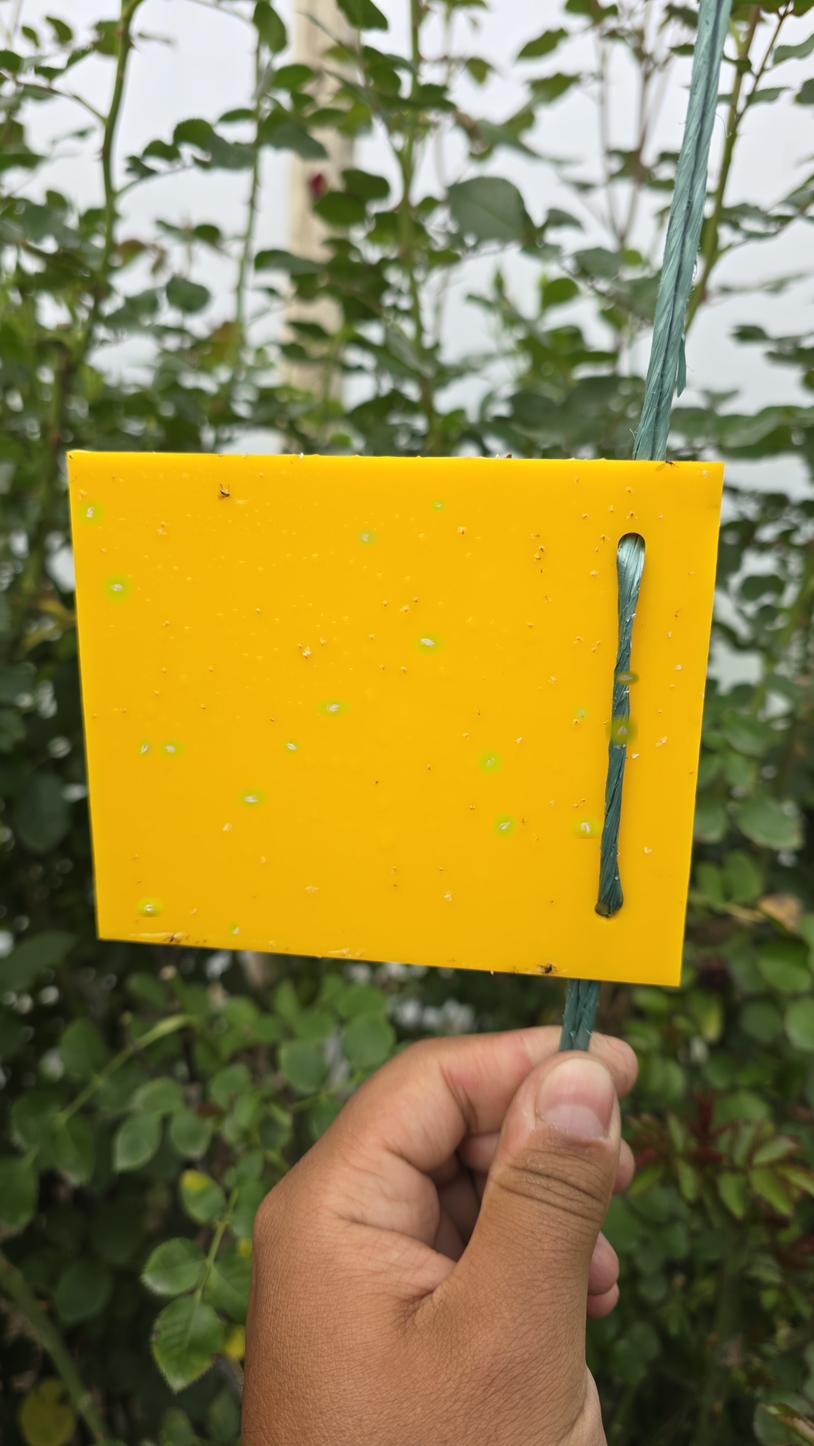WF: (106, 576, 129, 598), (610, 719, 633, 741), (79, 503, 102, 522), (416, 634, 440, 652), (574, 819, 598, 835), (319, 701, 346, 714), (240, 790, 263, 805), (480, 753, 499, 771), (495, 816, 513, 835), (161, 741, 182, 756), (140, 900, 160, 914), (359, 531, 374, 544), (138, 740, 151, 755), (284, 740, 298, 753), (619, 673, 636, 683), (222, 823, 234, 834), (432, 500, 444, 510), (575, 708, 587, 718), (515, 735, 526, 745), (297, 452, 307, 463), (674, 663, 684, 673), (444, 891, 454, 901), (642, 847, 654, 855), (229, 924, 237, 936), (632, 752, 641, 762), (701, 468, 711, 477), (660, 737, 668, 747), (305, 649, 314, 657)
